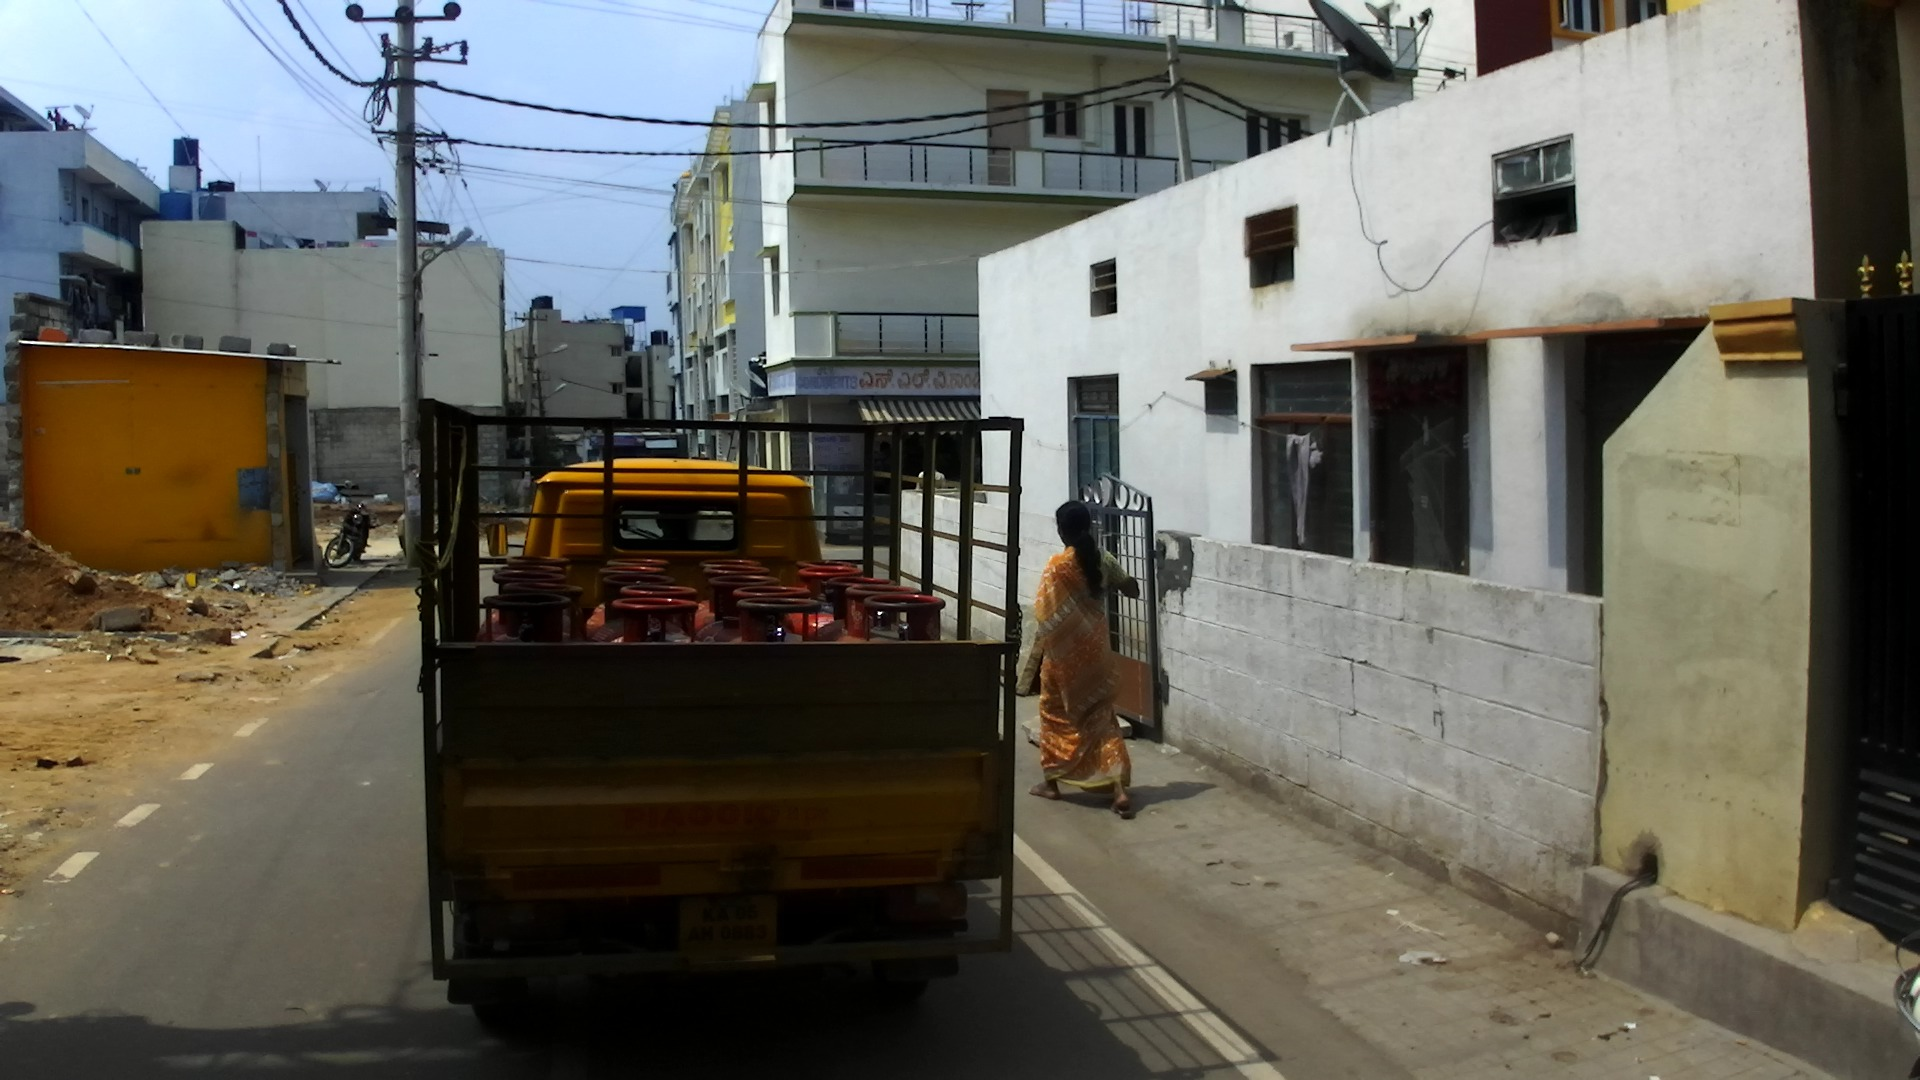autorickshaw: (414, 397, 1030, 1061)
motorcycle: (322, 497, 381, 570)
person: (1028, 498, 1142, 815)
vehicle fallback: (1883, 958, 1920, 1069)
